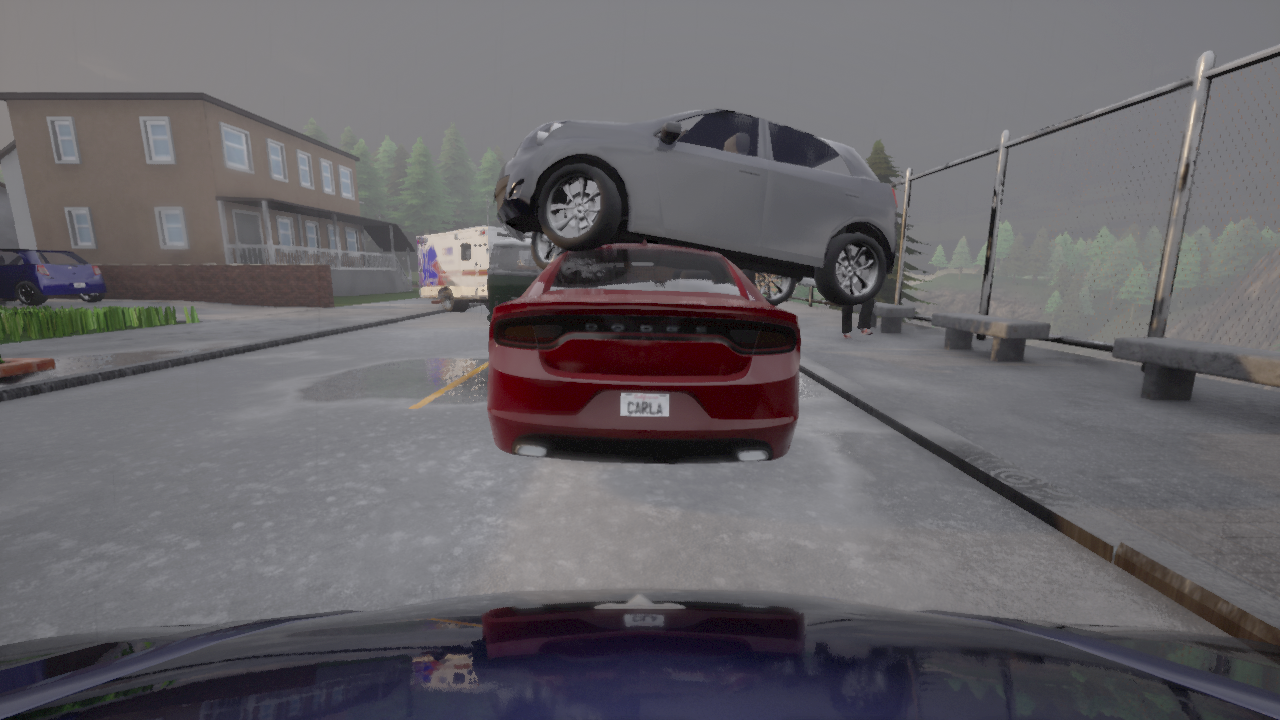cyclist: (0, 588, 1279, 719), (494, 108, 897, 305), (488, 237, 801, 463), (416, 225, 532, 311), (0, 248, 106, 305), (489, 239, 543, 320)
pedestrian: (841, 297, 875, 338)
